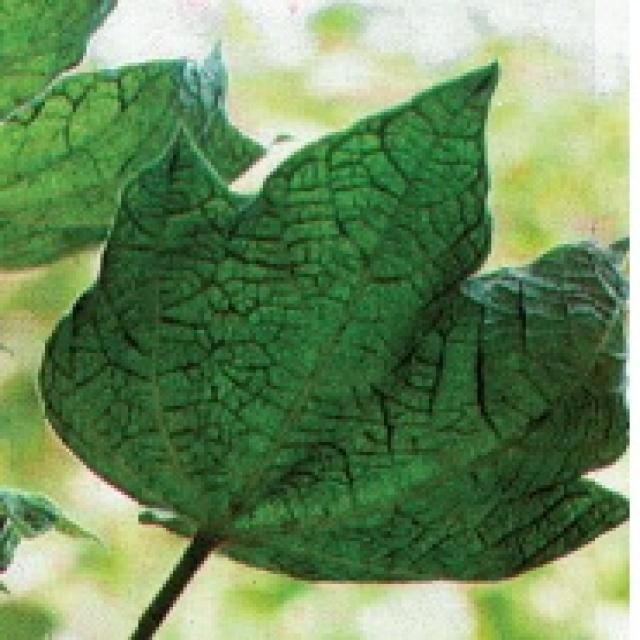Leaf Curl Virus: (122, 190, 576, 533)
